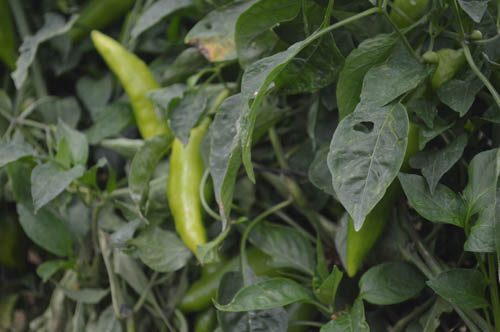ChiliPepper: (349, 125, 421, 282), (91, 30, 169, 141), (180, 247, 304, 307), (165, 123, 210, 262)
